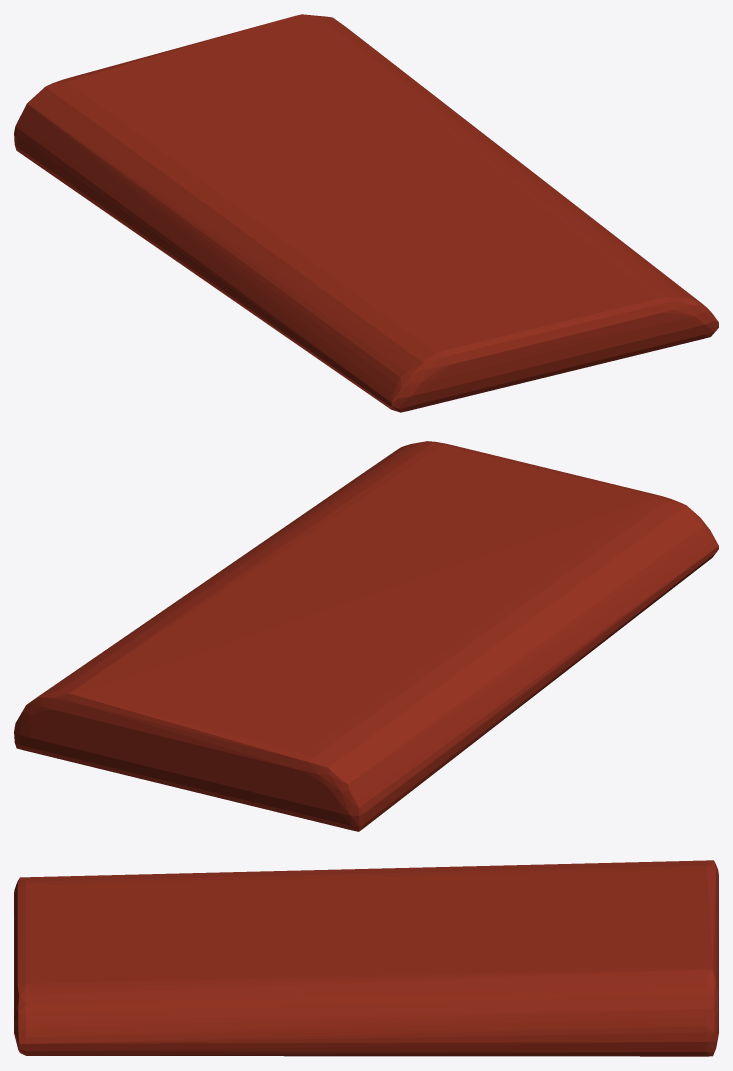
The model's file is right_hip_pitch_link_part_15.obj.
3 views of the same model, one above another, from view 1: azimuth 30°, elevation 25°; view 2: azimuth 150°, elevation 25°; view 3: azimuth 270°, elevation 25° (orthographic). The views are drawn at different scales.
Bounding box in the file's own units: 0.0688 × 0.0128 × 0.129.
